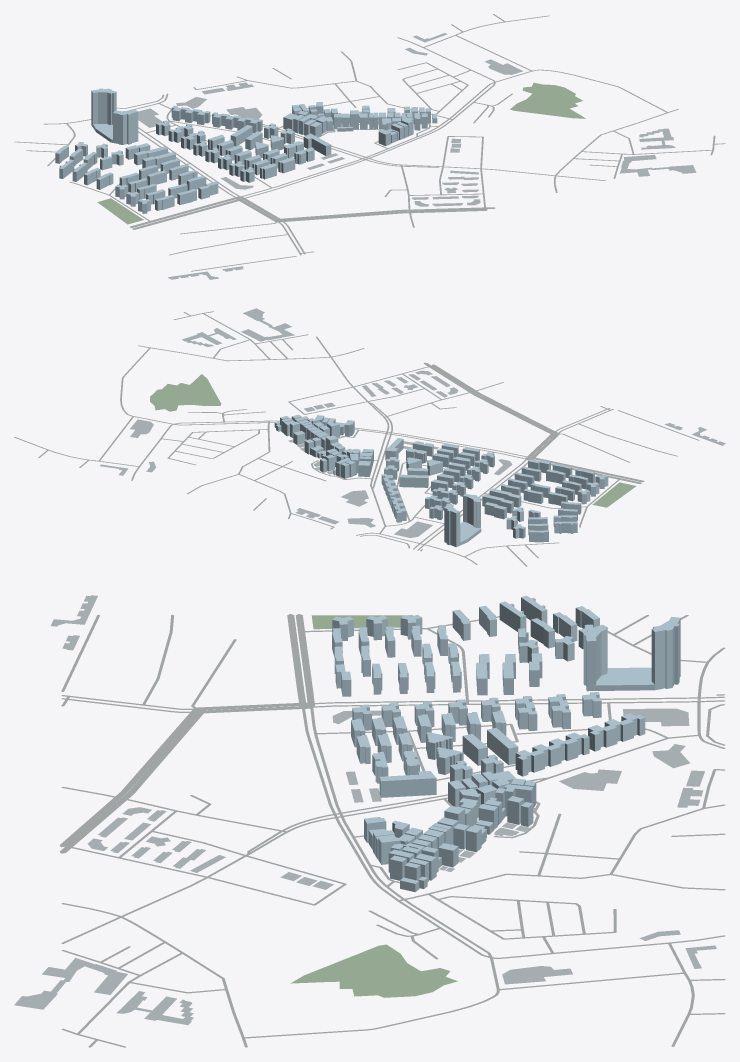
Rendered from -11_-5-known-coarse.glb.
3 renders of one model, top to bottom at view 1: azimuth 30°, elevation 25°; view 2: azimuth 150°, elevation 25°; view 3: azimuth 270°, elevation 25°, orthographic. The views are drawn at different scales.
Size of the model in its own units: 1049 by 63 by 697.
